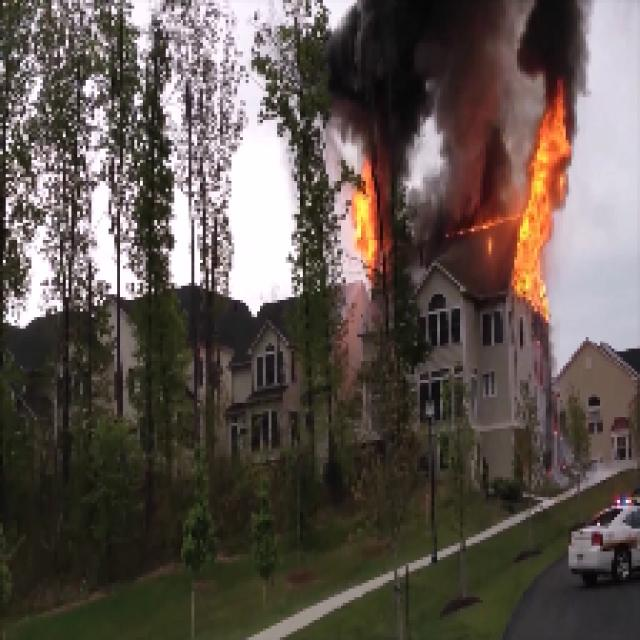fire: (516, 110, 566, 314)
smoke: (372, 17, 514, 239)
